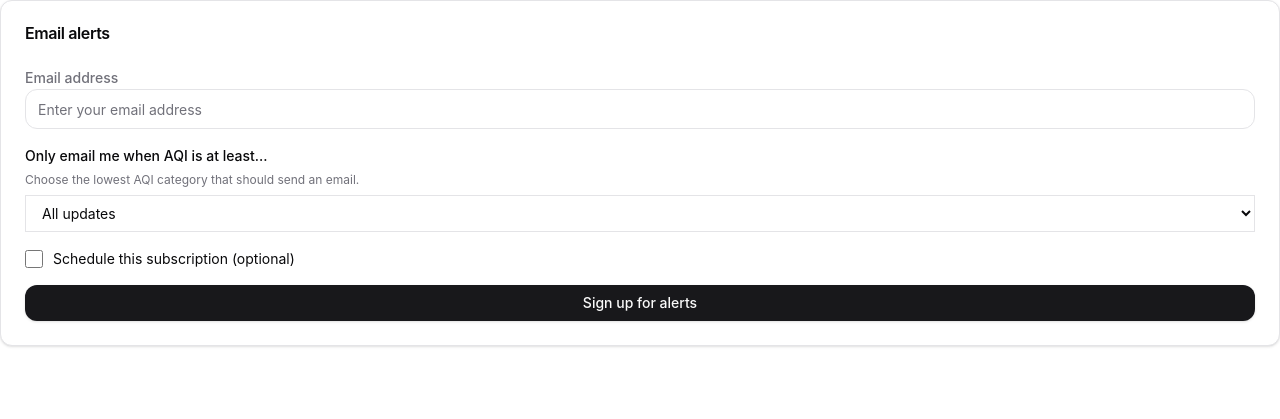
SubscriptionForm › shows error for missing zip code
In the field with placeholder "Enter your email address": coordinates (640, 109) [25,89,1255,129], type "test@example.com"
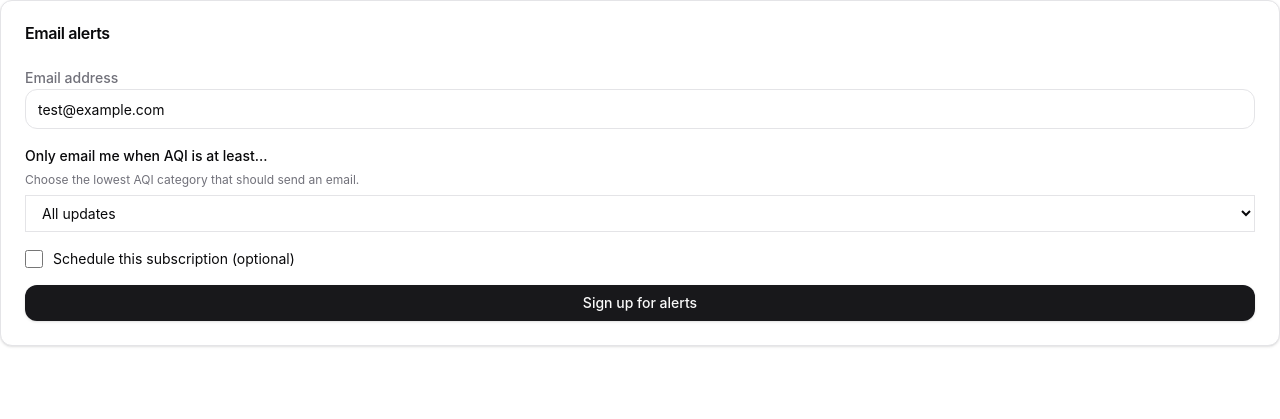
Click the button: coordinates (640, 303) [25,285,1255,321]
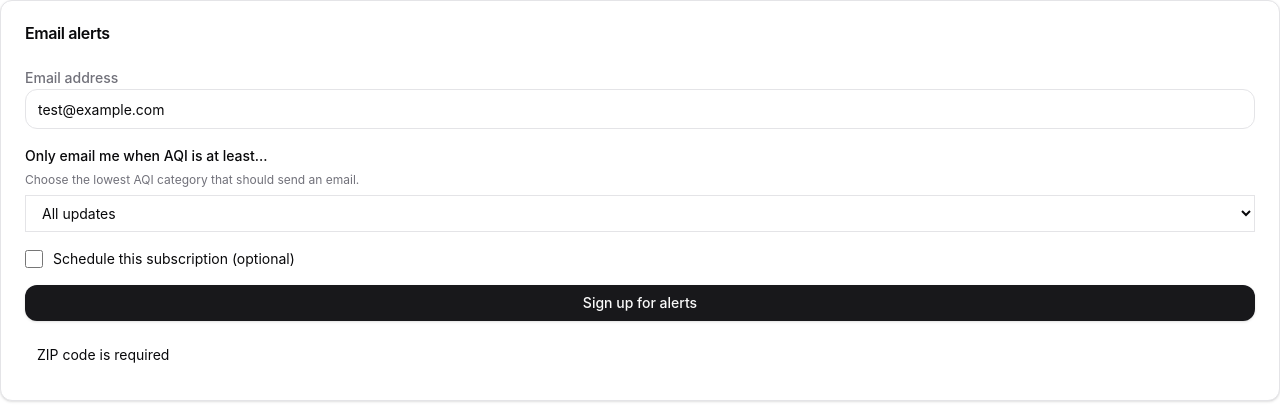
Expected: the text "ZIP code is required" is shown, [37,346,170,363]
